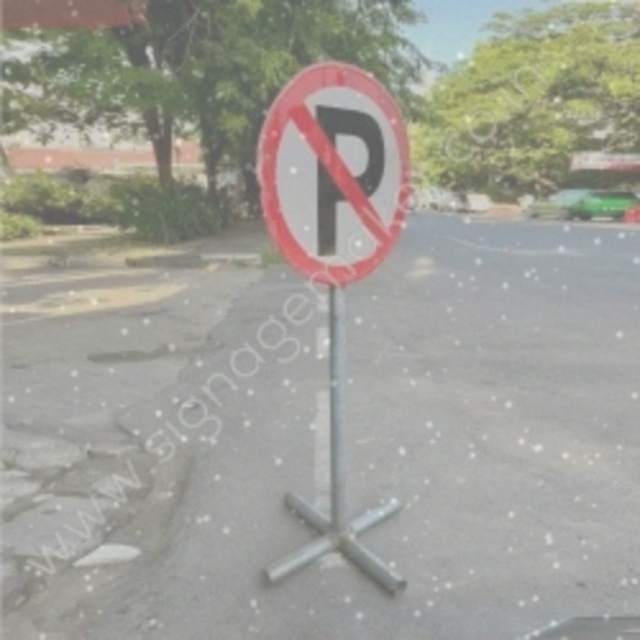No_Parking: (260, 60, 414, 286)
